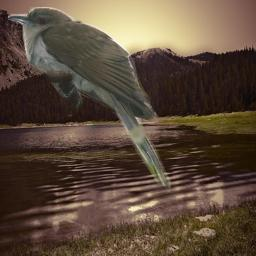Cuckoo: (8, 7, 171, 193)
